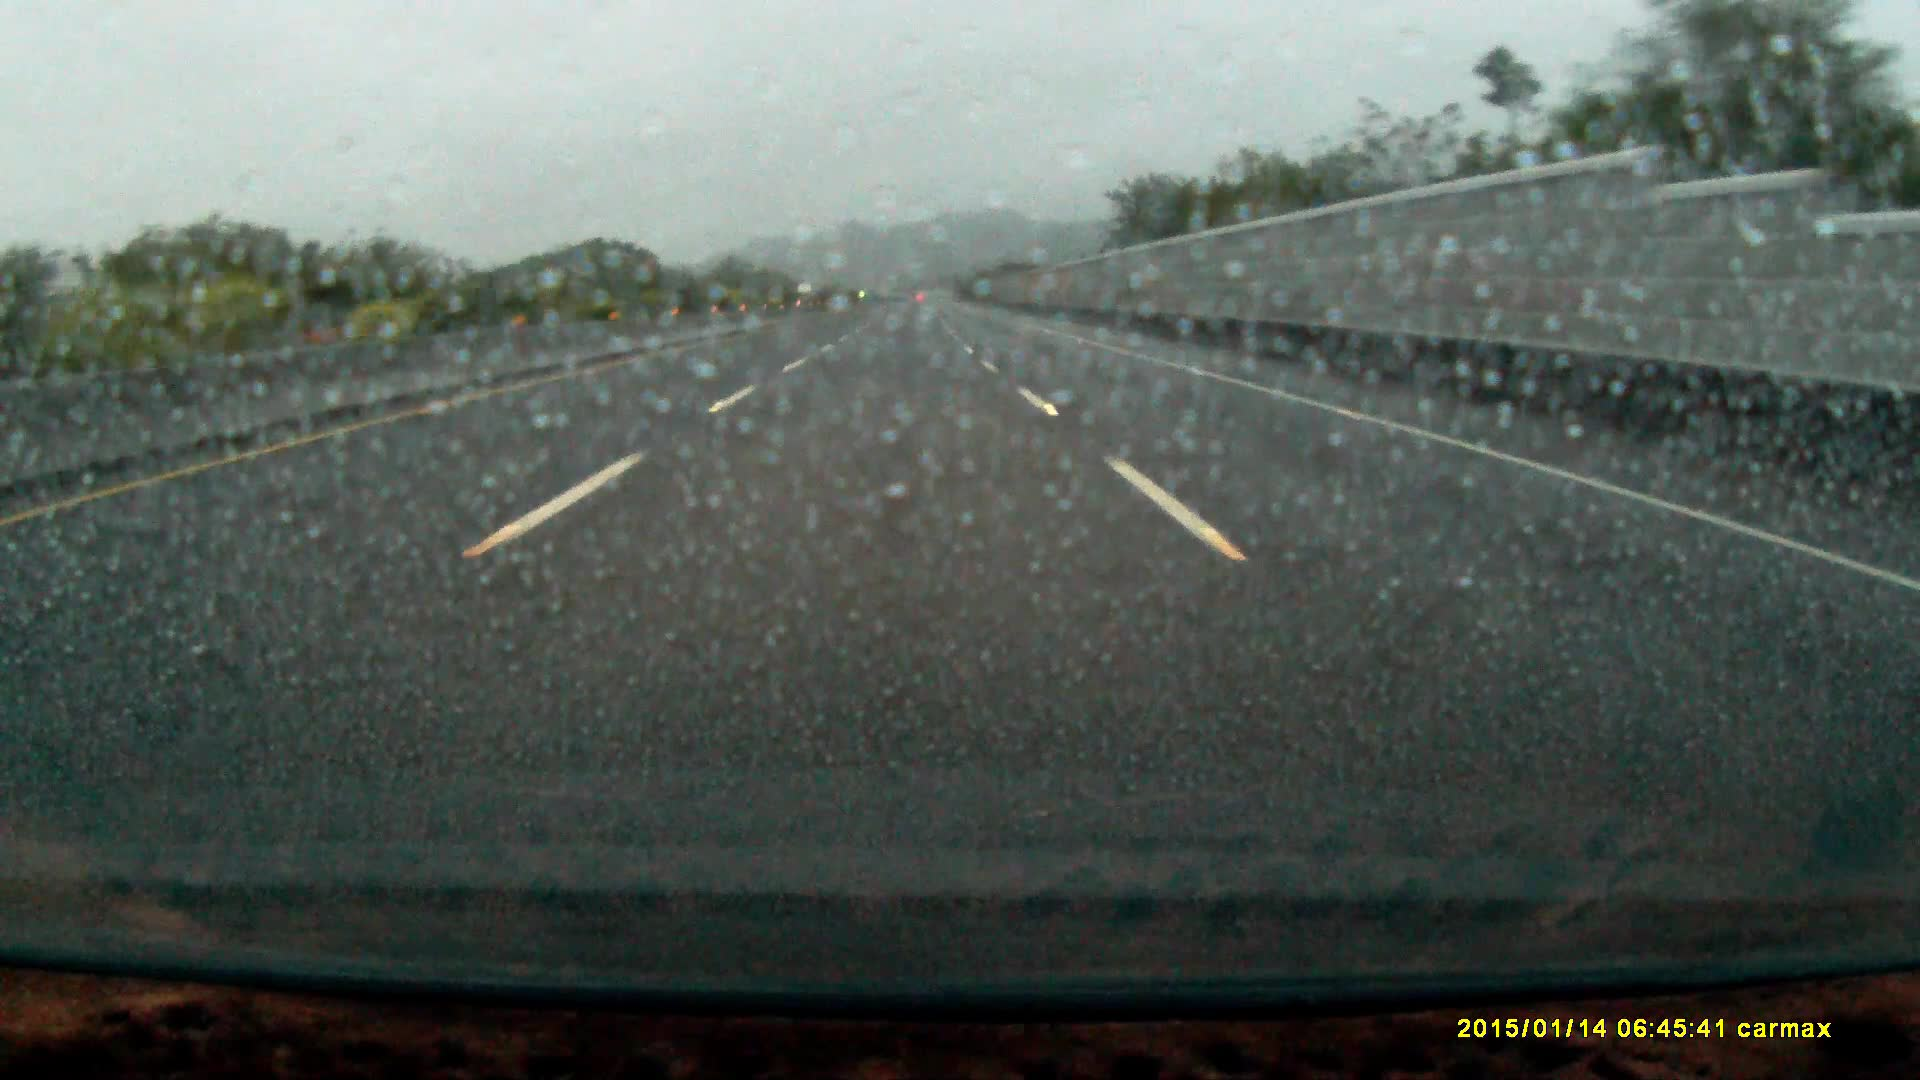vehicle: (794, 284, 819, 309)
